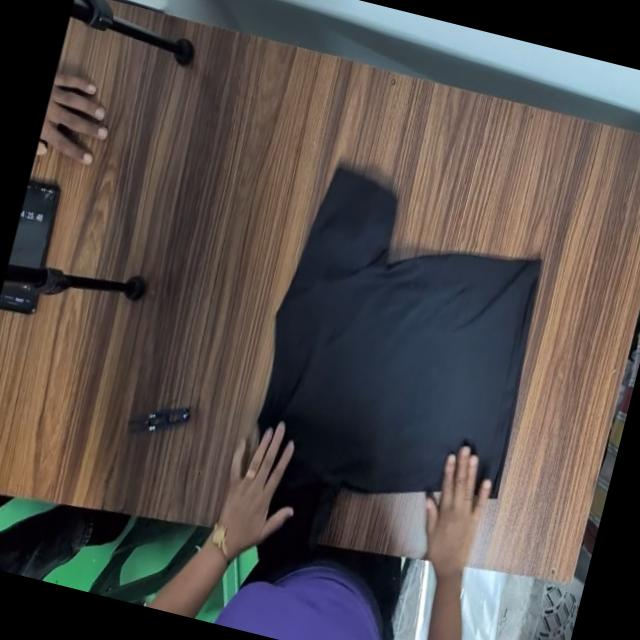new-garment: (257, 168, 540, 557)
